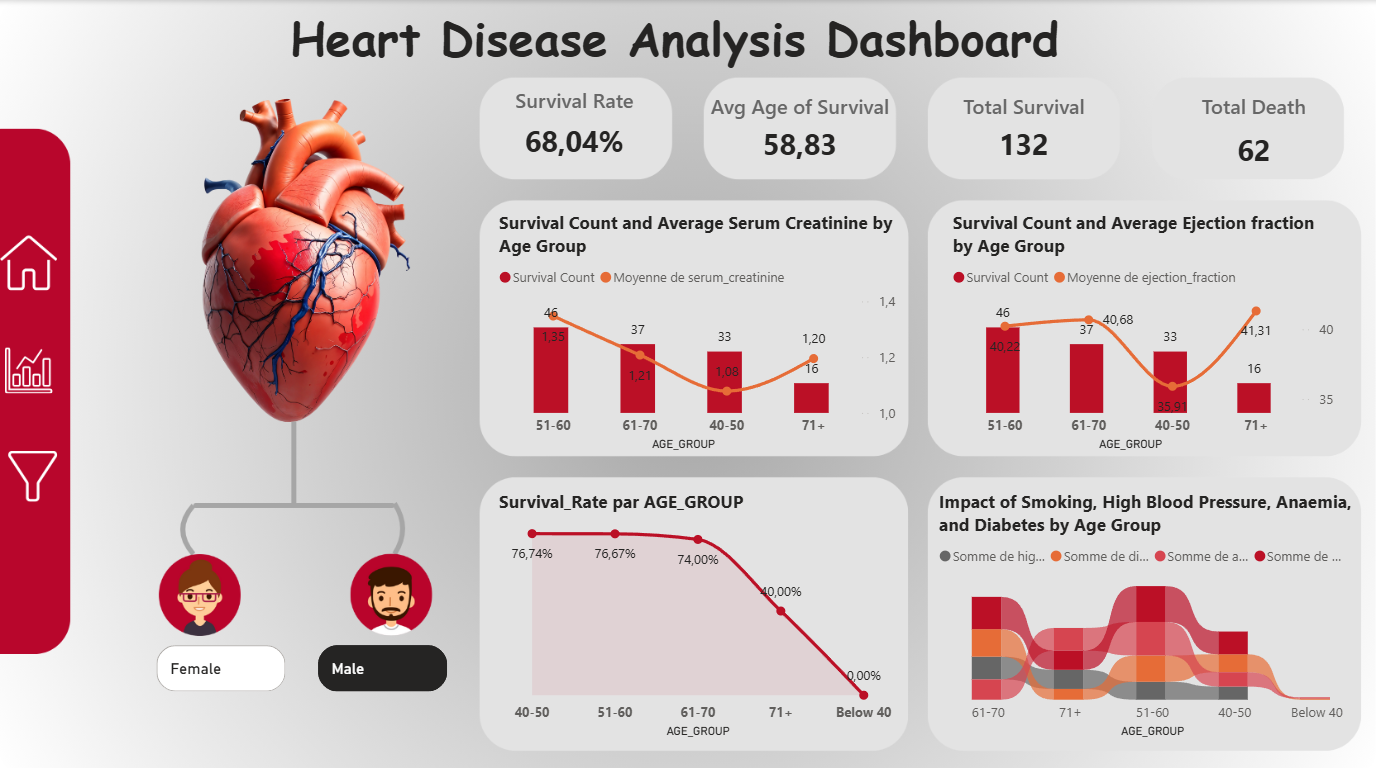

Layout of this report page (visuals, bound fields, positions):
{"tool":"powerbi","page":{"name":"Page 1","canvas":[1280,720],"ordinal":0},"visuals":[{"type":"textbox","box":[265.1,0,748.8,80.2],"z":0},{"type":"card","title":"Survival Rate","fields":{"Values":["heart_Disease_clinical_records_.Survival_Rate"]},"box":[458.8,80,150,80],"z":1000},{"type":"card","title":"Avg Age of Survival","fields":{"Values":["heart_Disease_clinical_records_.Average_Age_Survival"]},"box":[652.5,86.2,183.8,73.8],"z":2000},{"type":"card","title":"Total Survival","fields":{"Values":["heart_Disease_clinical_records_.Total_Surviour"]},"box":[857.5,86.2,191.2,73.8],"z":3000},{"type":"card","title":"Total Death","fields":{"Values":["heart_Disease_clinical_records_.Total_Death"]},"box":[1065,86.2,202.5,85],"z":4000},{"type":"lineClusteredColumnComboChart","title":"Survival Count and Average Serum Creatinine by Age Group","fields":{"Category":["heart_Disease_clinical_records_.AGE_GROUP"],"Y":["CountNonNull(heart_Disease_clinical_records_.DEATH_EVENT)"],"Y2":["Avg(heart_Disease_clinical_records_.serum_creatinine)"]},"box":[458.8,195,381.2,228.8],"z":5000},{"type":"lineClusteredColumnComboChart","title":"Survival Count and Average Ejection fraction by Age Group","fields":{"Category":["heart_Disease_clinical_records_.AGE_GROUP"],"Y":["CountNonNull(heart_Disease_clinical_records_.DEATH_EVENT)"],"Y2":["Avg(heart_Disease_clinical_records_.ejection_fraction)"]},"box":[881.2,195,365,228.8],"z":6000},{"type":"lineChart","fields":{"Category":["heart_Disease_clinical_records_.AGE_GROUP"],"Y":["heart_Disease_clinical_records_.Survival_Rate"]},"box":[458.8,455,381.2,236.2],"z":7000},{"type":"ribbonChart","title":"Impact of Smoking, High Blood Pressure, Anaemia, and Diabetes by Age Group","fields":{"Category":["heart_Disease_clinical_records_.AGE_GROUP"],"Y":["Sum(heart_Disease_clinical_records_.high_blood_pressure)","Sum(heart_Disease_clinical_records_.diabetes)","Sum(heart_Disease_clinical_records_.anaemia)","Sum(heart_Disease_clinical_records_.smoking)"]},"box":[868.8,455,407.5,236.2],"z":8000},{"type":"advancedSlicerVisual","fields":{"Values":["heart_Disease_clinical_records_.Gender"]},"box":[141.2,595,281.2,53.8],"z":9000}]}

Visuals, with their boxes in screenshot pixels (x1, y1, x2, y2), scaled from the page's 1280x720 canvas onto the 1376x768 screenshot:
textbox: {"left": 285, "top": 0, "right": 1090, "bottom": 86}
"Survival Rate" card: {"left": 493, "top": 85, "right": 654, "bottom": 171}
"Avg Age of Survival" card: {"left": 701, "top": 92, "right": 899, "bottom": 171}
"Total Survival" card: {"left": 922, "top": 92, "right": 1127, "bottom": 171}
"Total Death" card: {"left": 1145, "top": 92, "right": 1363, "bottom": 183}
"Survival Count and Average Serum Creatinine by Age Group" lineClusteredColumnComboChart: {"left": 493, "top": 208, "right": 903, "bottom": 452}
"Survival Count and Average Ejection fraction by Age Group" lineClusteredColumnComboChart: {"left": 947, "top": 208, "right": 1340, "bottom": 452}
lineChart - heart_Disease_clinical_records_.AGE_GROUP x heart_Disease_clinical_records_.Survival_Rate: {"left": 493, "top": 485, "right": 903, "bottom": 737}
"Impact of Smoking, High Blood Pressure, Anaemia, and Diabetes by Age Group" ribbonChart: {"left": 934, "top": 485, "right": 1372, "bottom": 737}
advancedSlicerVisual - heart_Disease_clinical_records_.Gender: {"left": 152, "top": 635, "right": 454, "bottom": 692}
